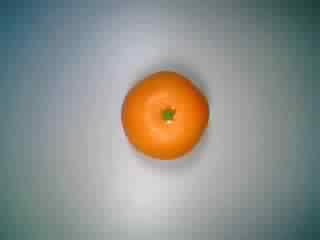orange: (117, 62, 212, 164)
